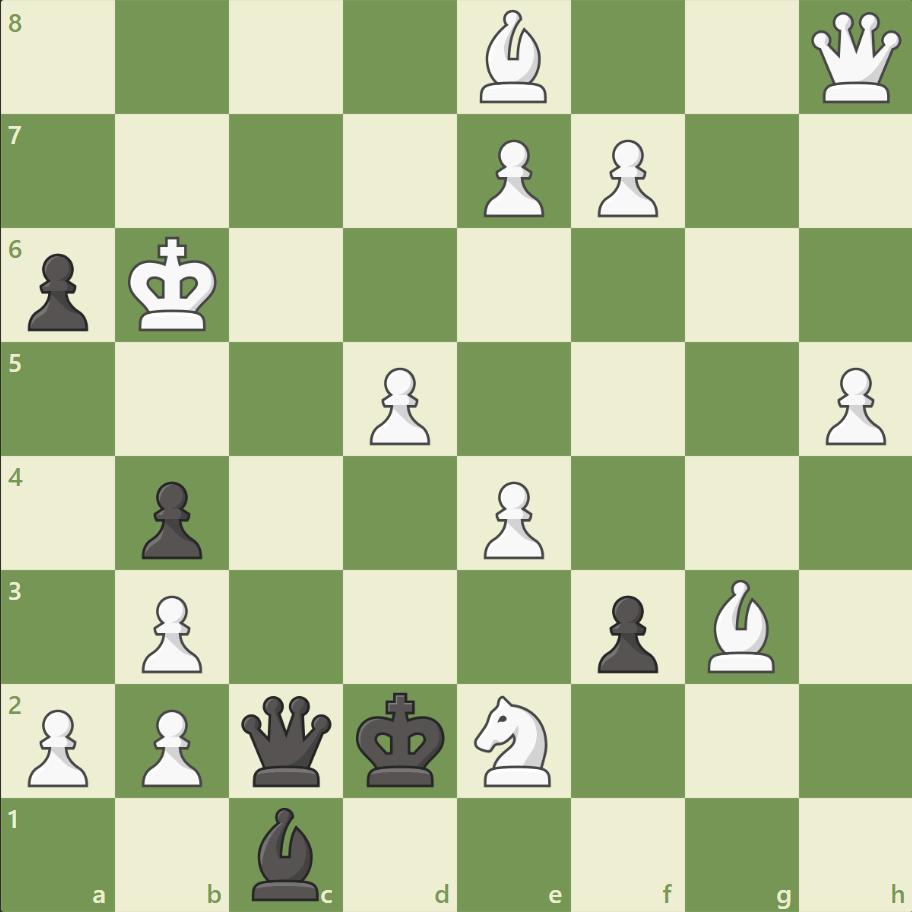B: (471, 6, 555, 109), (698, 574, 782, 676)
K: (124, 231, 224, 339)
N: (465, 688, 562, 791)
P: (474, 132, 549, 223), (474, 473, 549, 564), (133, 586, 208, 677), (20, 700, 95, 791), (133, 700, 208, 791), (588, 132, 662, 223), (361, 359, 435, 450), (815, 359, 889, 450)
Q: (805, 9, 904, 108)
b: (244, 801, 328, 904)
k: (351, 685, 451, 793)
p: (20, 246, 95, 337), (133, 473, 208, 564), (588, 586, 662, 677)
q: (237, 690, 336, 789)
